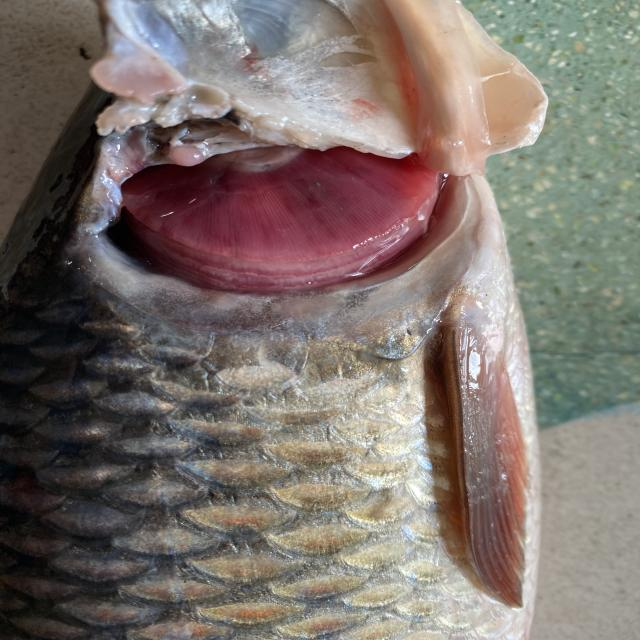Fresh: (107, 120, 491, 324)
